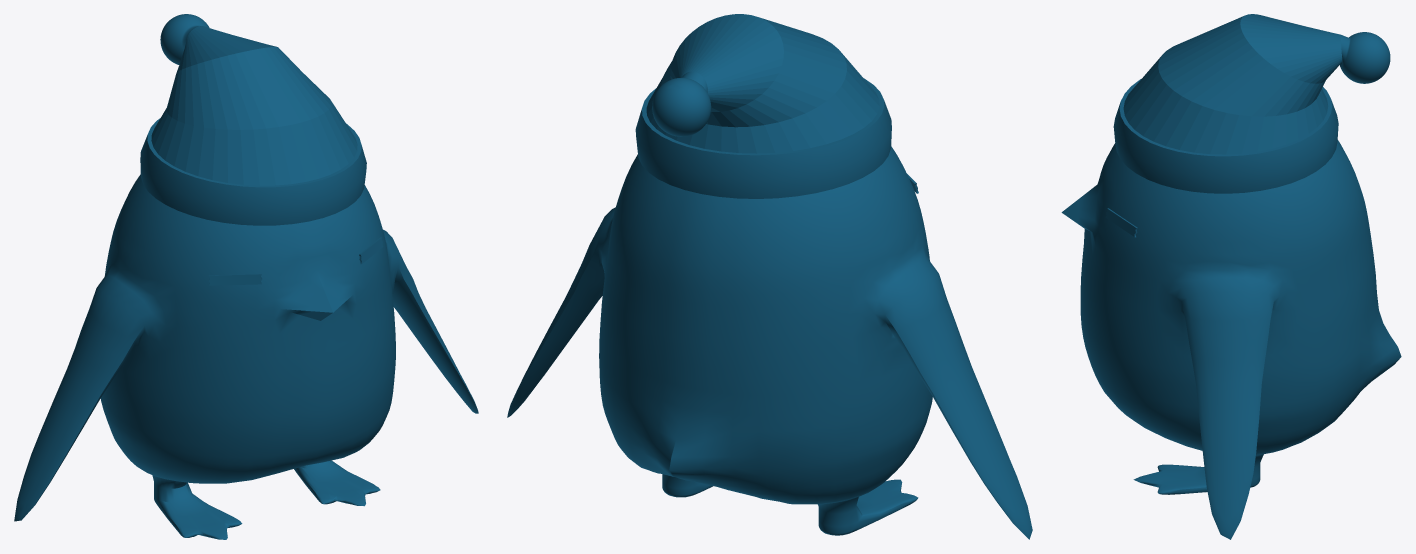
Rendered from penguin_blue_idle_27f.fbx.
The picture shows the model from 3 angles, left to right: view 1: azimuth 30°, elevation 25°; view 2: azimuth 150°, elevation 25°; view 3: azimuth 270°, elevation 25°; orthographic projection. The views are drawn at different scales.
Visible parts, largest first — view 1: ppp_27, bousi, ai; view 2: ppp_27, bousi; view 3: ppp_27, bousi.
Boxes of the visible parts, <box> form: ppp_27: <box>14,174,478,539</box>; bousi: <box>140,14,366,225</box>; ai: <box>208,237,383,285</box>; ppp_27: <box>507,146,1032,539</box>; bousi: <box>635,14,891,198</box>; ppp_27: <box>1061,140,1401,539</box>; bousi: <box>1113,14,1390,193</box>.
Bounding box in the file's own units: 22.37 × 20.11 × 14.41.
1 material, 1 textured.
